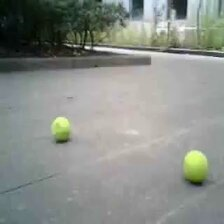tennis: (182, 151, 208, 180), (51, 116, 70, 141)
